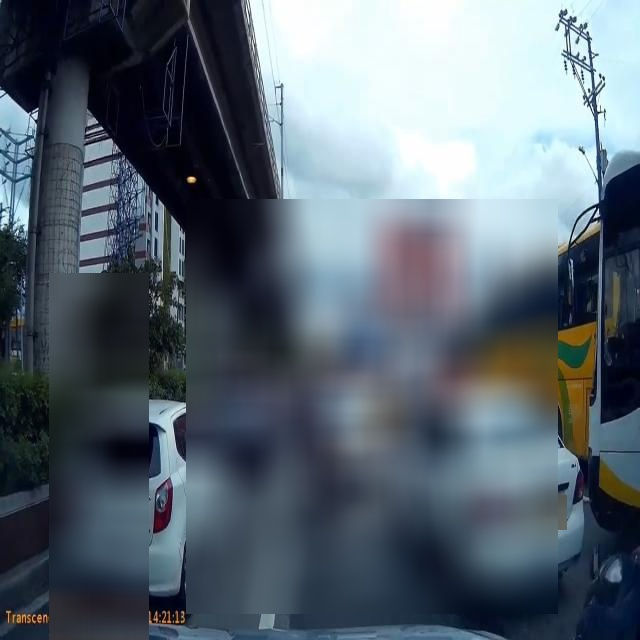bus: (468, 225, 602, 462), (331, 328, 397, 405), (388, 341, 431, 404)
car: (402, 393, 584, 603), (70, 398, 232, 614), (193, 364, 283, 480), (318, 392, 382, 486), (360, 383, 395, 437)
motorcycle: (302, 372, 342, 538)
